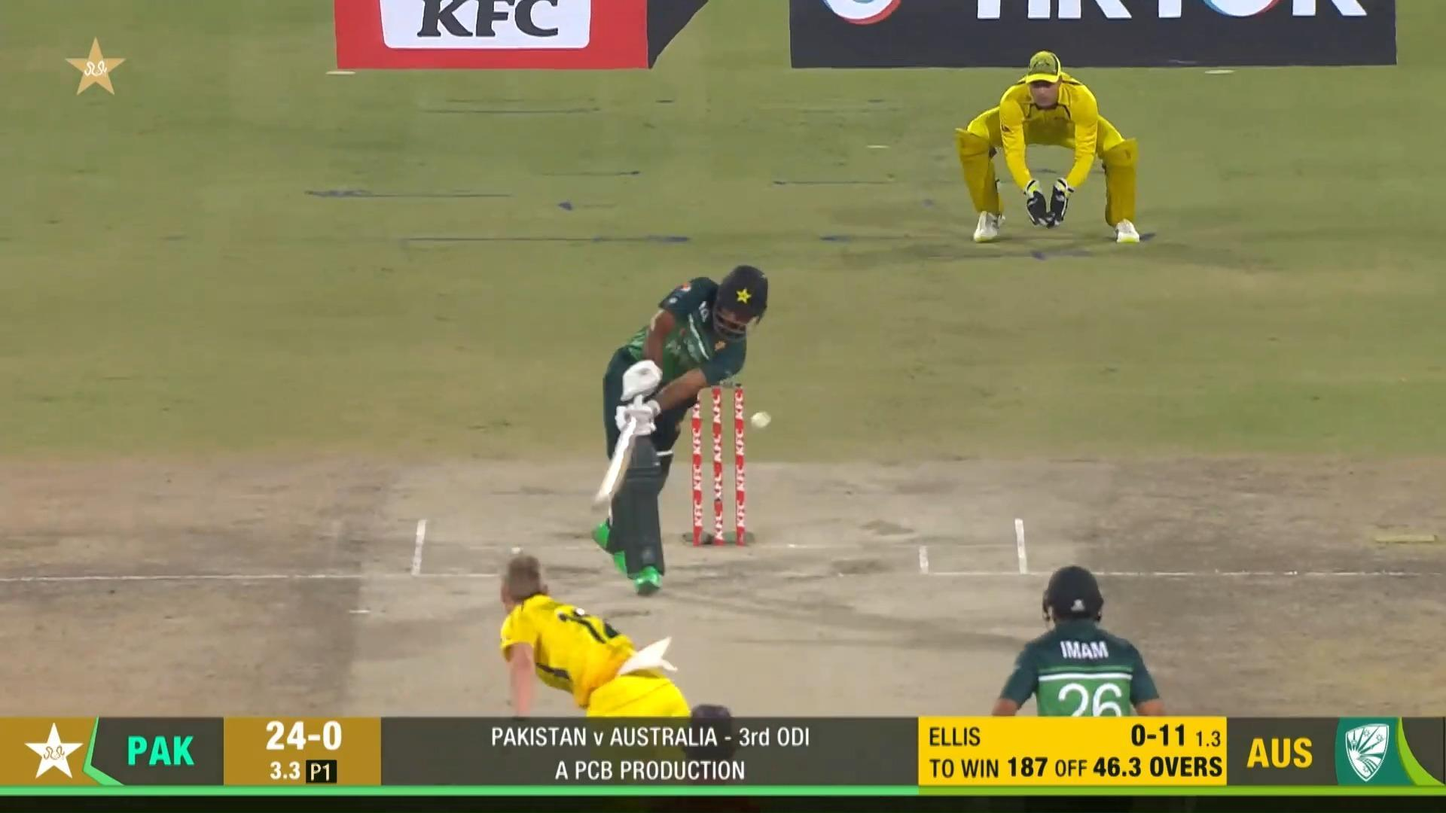BM 1: (589, 261, 772, 598)
BO: (498, 553, 722, 812)
